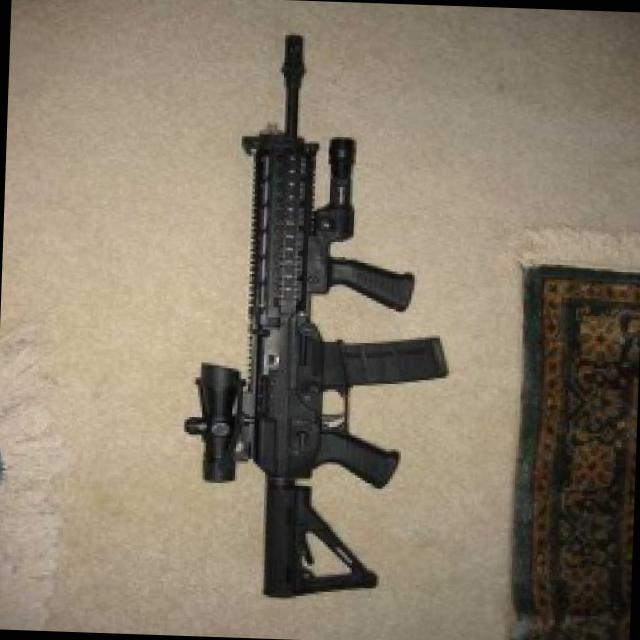long weapon: (180, 14, 450, 632)
